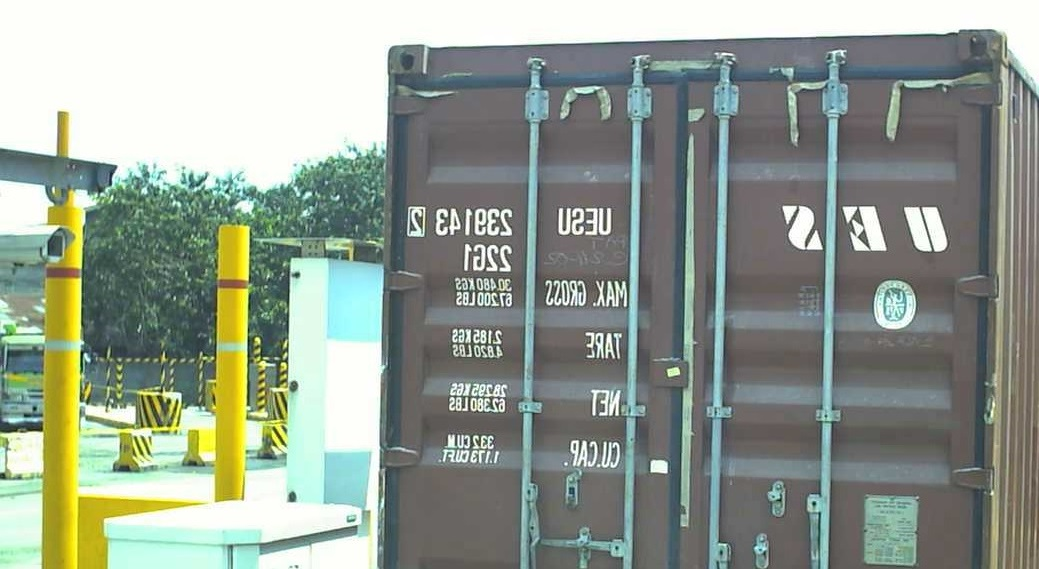container_door: (376, 35, 998, 569)
